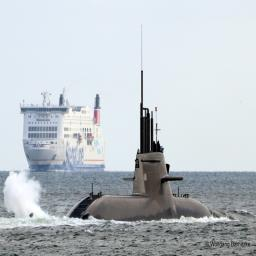submarine: (30, 27, 248, 224)
